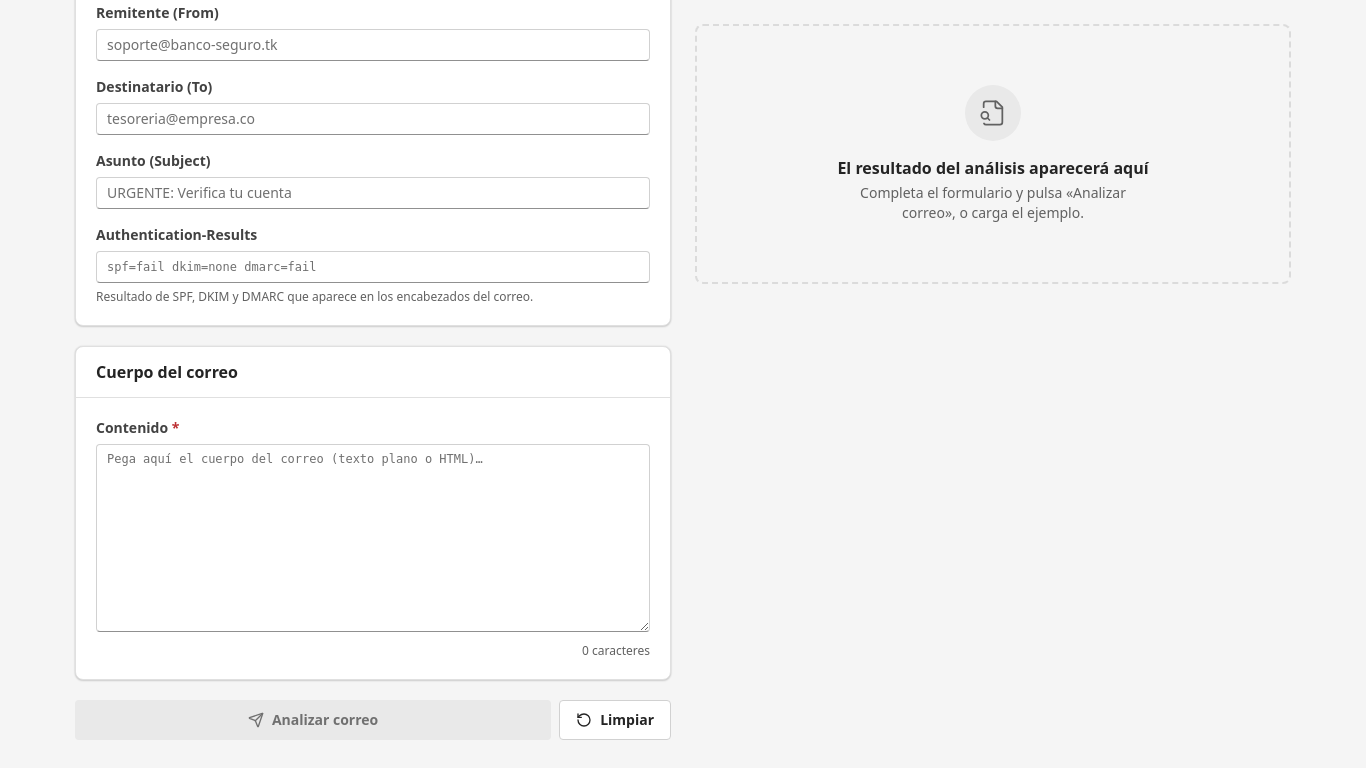
AnalyzePage — correo legítimo › muestra mensaje de correo legítimo
The image size is (1366, 768).
(page scrolled)
Type "Gracias por tu compra en Amazon." into the text box with placeholder "Pega aquí el cuerpo del correo (texto plano o HTML)…". click: [373, 538]
box: [96,444,650,632]
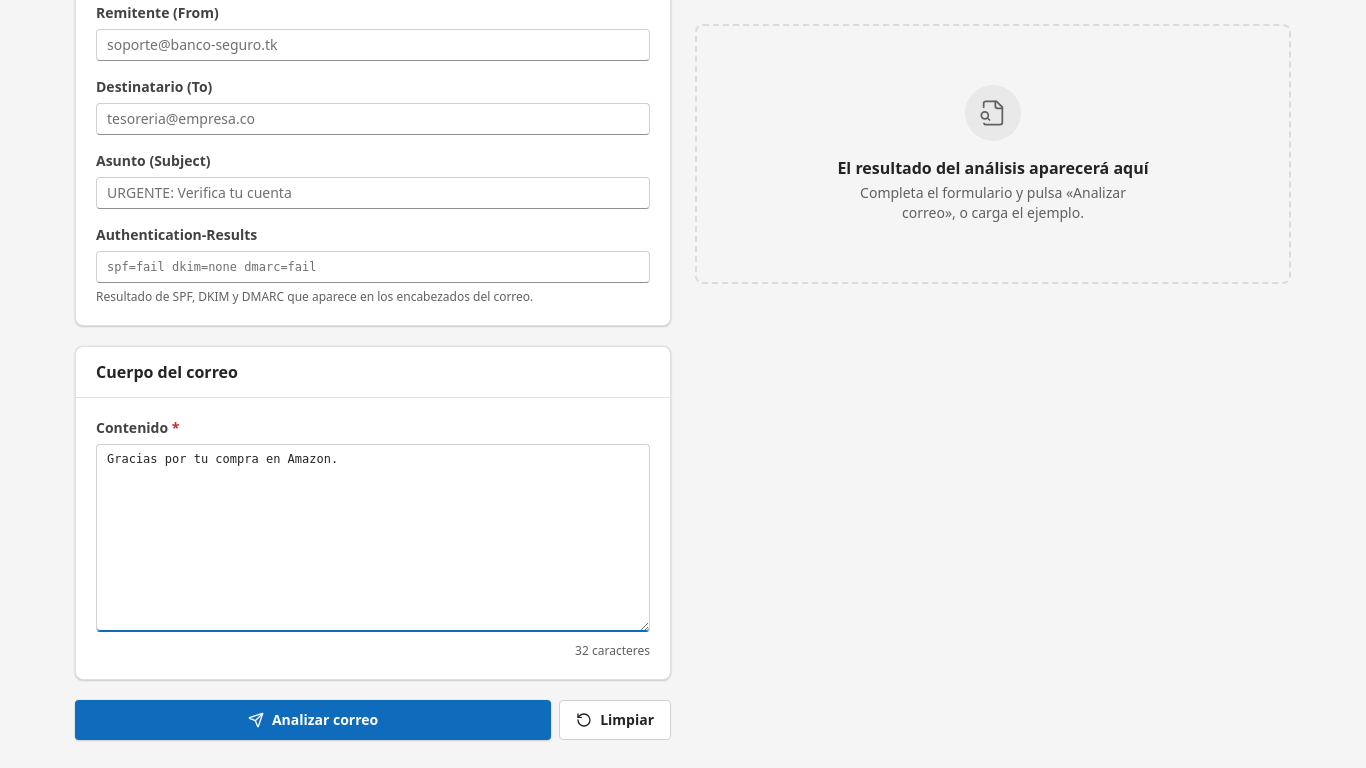
Click the button "Analizar correo". click: [313, 720]
box: [75,700,551,740]
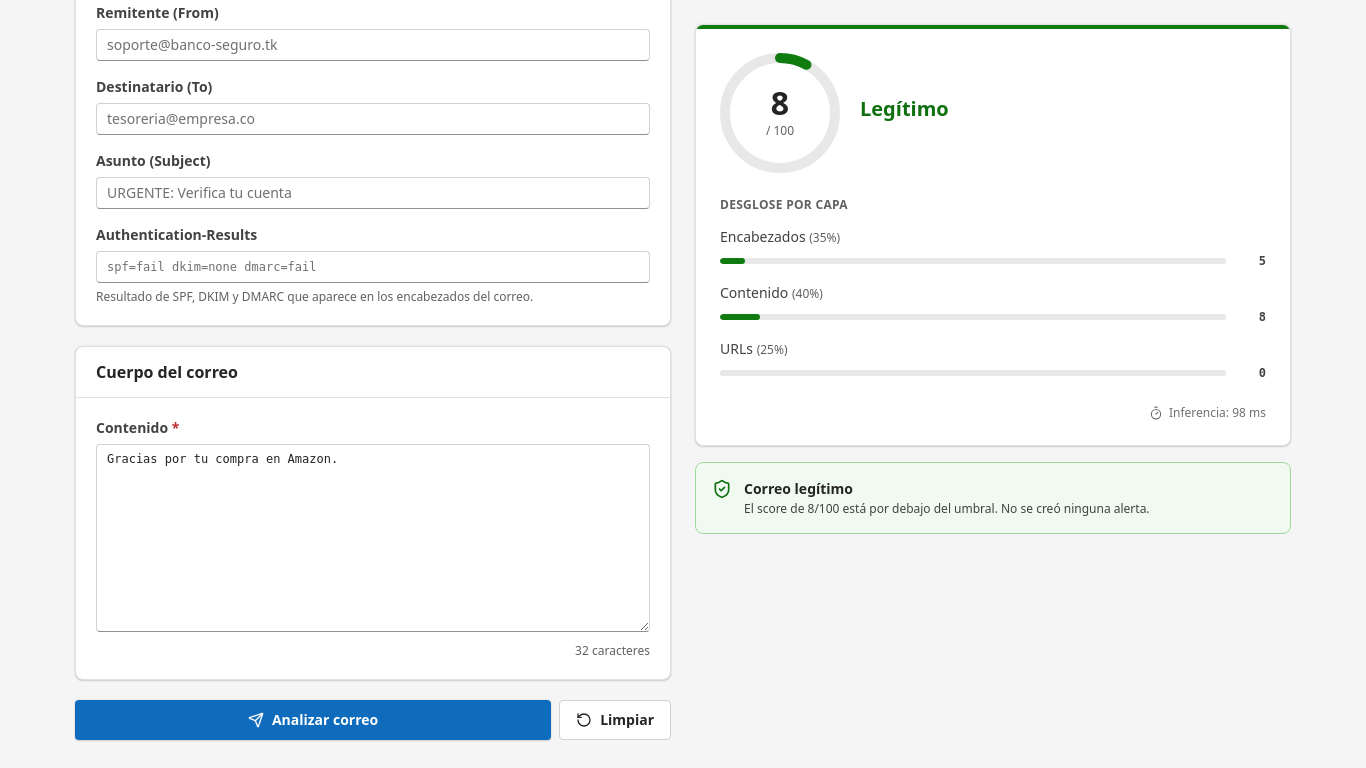
Expected: the text "Correo legítimo" is shown, [744,479,853,498]
